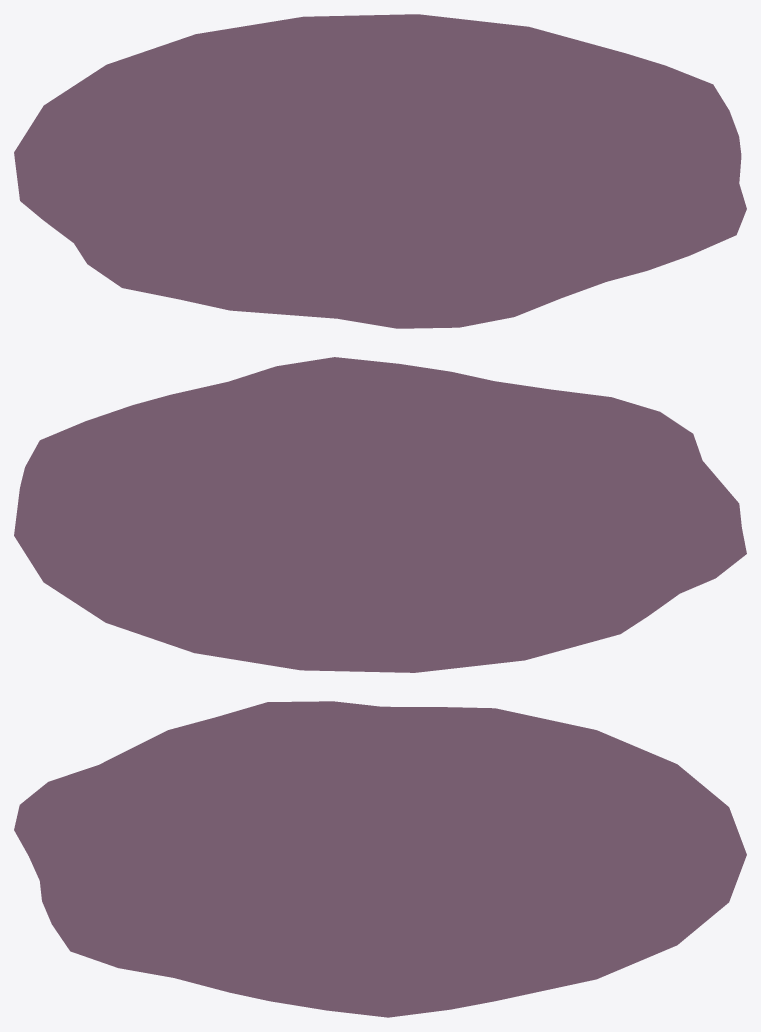
Rendered from HolidayTableRoundShadow.glb.
3 renders of one model, top to bottom at view 1: azimuth 30°, elevation 25°; view 2: azimuth 150°, elevation 25°; view 3: azimuth 270°, elevation 25°, orthographic.
Visible parts, largest first — view 1: HolidayTableRoundShadow; view 2: HolidayTableRoundShadow; view 3: HolidayTableRoundShadow.
Boxes of the visible parts, bbox=[...] form: HolidayTableRoundShadow: bbox=[14, 14, 746, 328]; HolidayTableRoundShadow: bbox=[14, 357, 746, 672]; HolidayTableRoundShadow: bbox=[14, 701, 746, 1017].
Bounding box in the file's own units: 2.16 × 2.04e-05 × 2.12.
